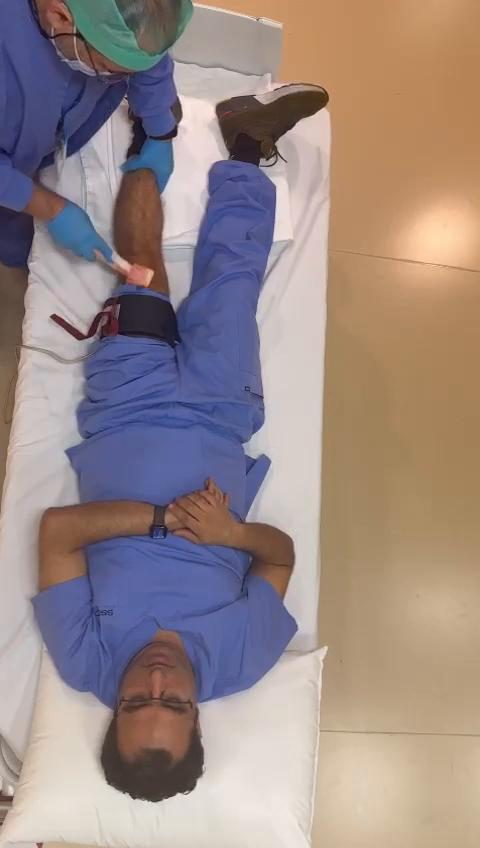patient: (33, 86, 328, 799)
prepstick: (106, 252, 153, 286), (94, 250, 106, 261)
tourniquet: (51, 293, 181, 345)
